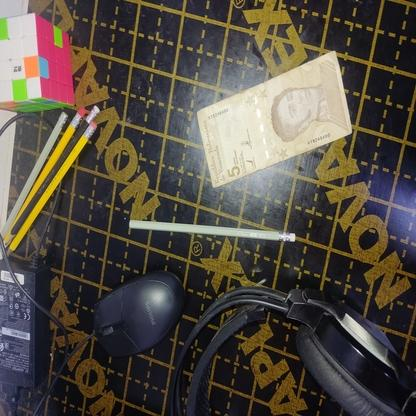five-front-vef: (196, 49, 352, 188)
